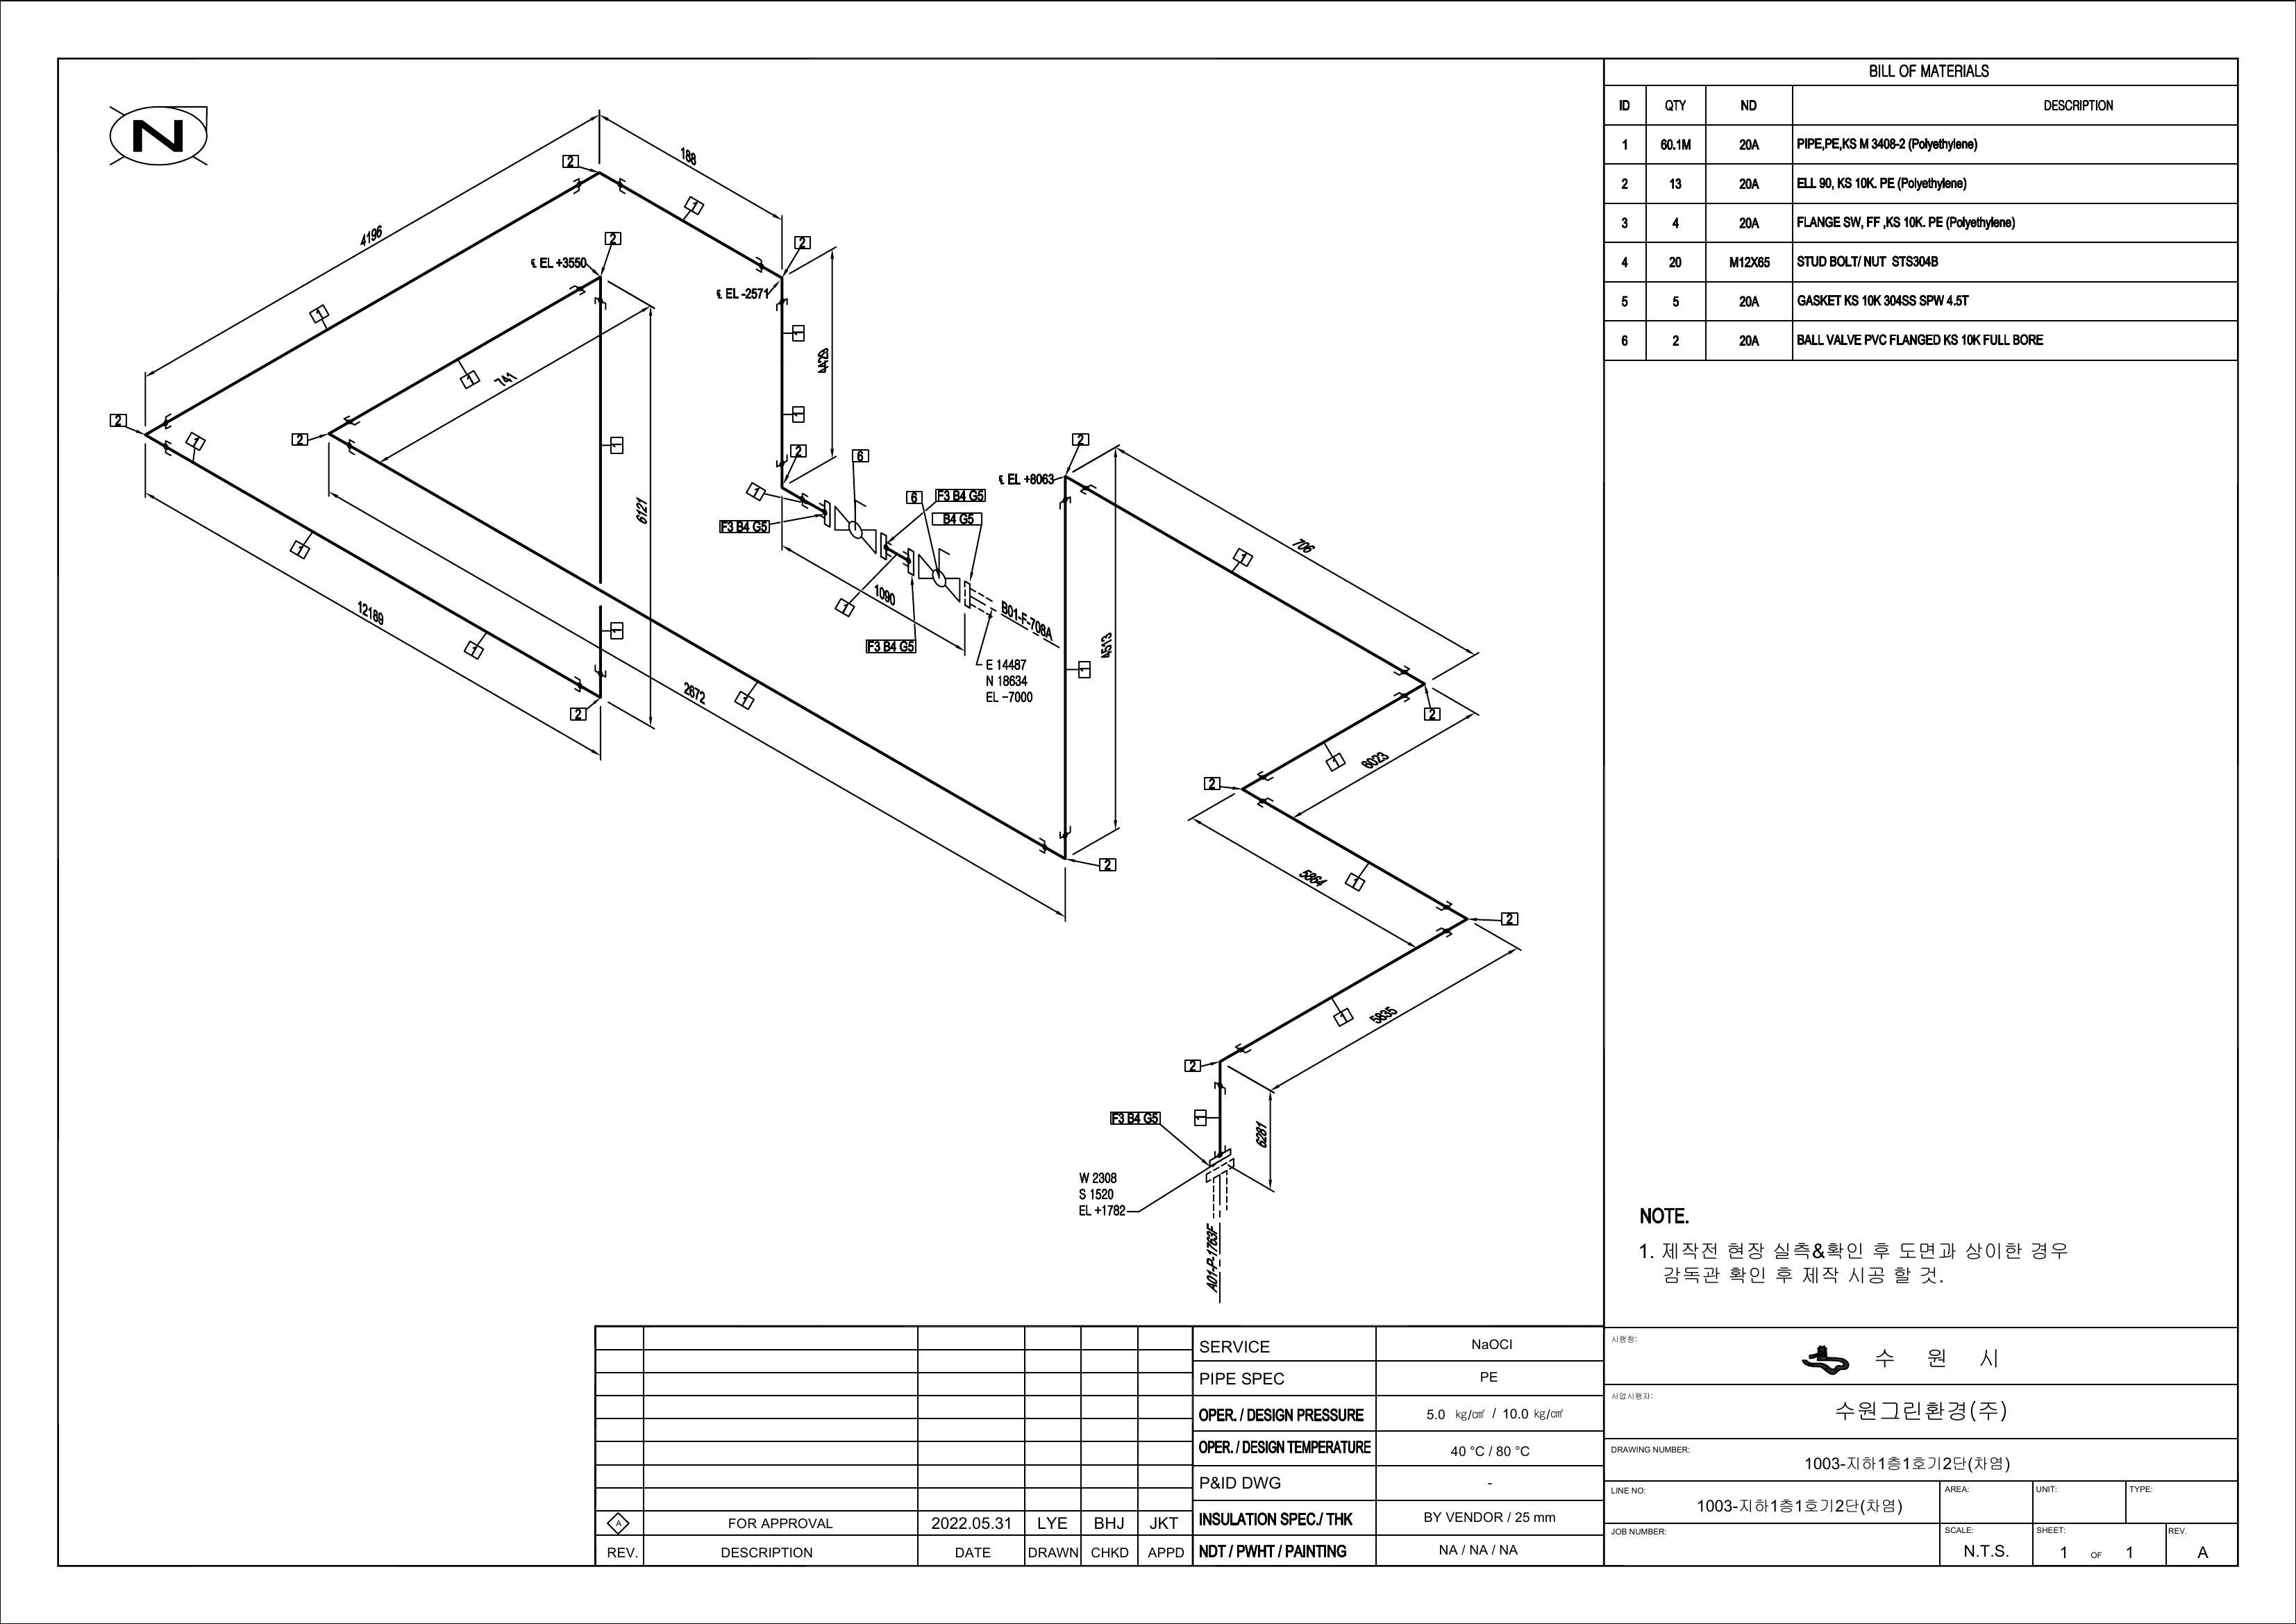table: (1599, 49, 2243, 364)
